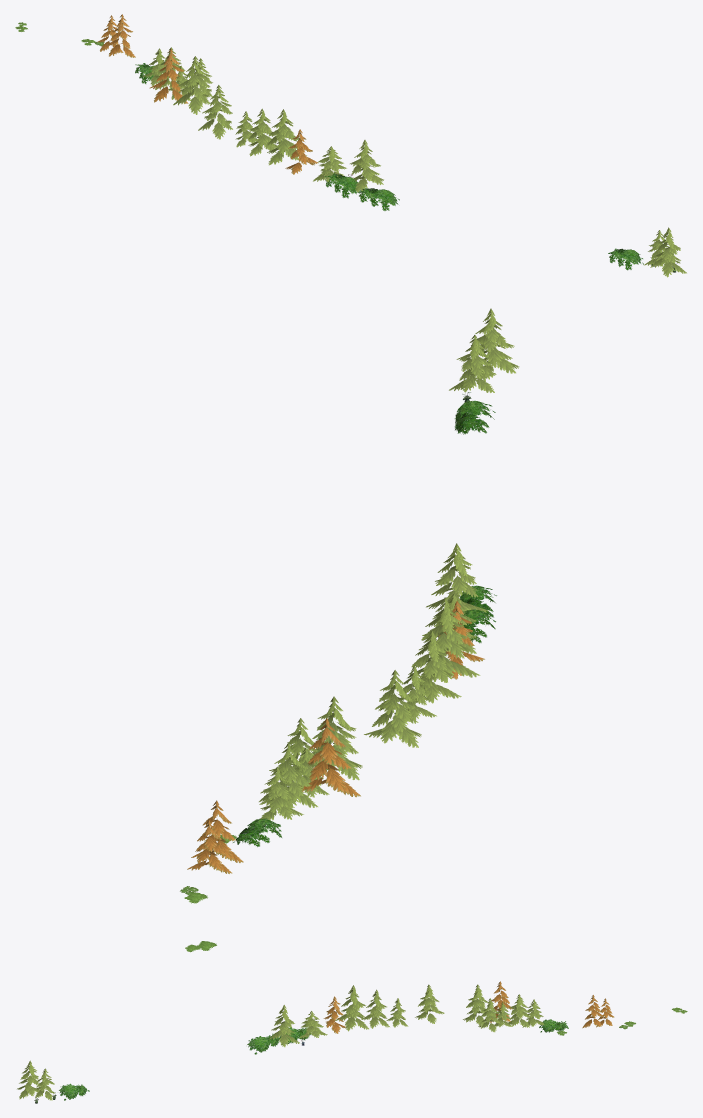
File: zhibei15_1.fbx
3 renders of one model, top to bottom at view 1: azimuth 30°, elevation 25°; view 2: azimuth 150°, elevation 25°; view 3: azimuth 270°, elevation 25°, orthographic. The views are drawn at different scales.
Parts seen in each view (by area): view 1: zhibei15_1; view 2: zhibei15_1; view 3: zhibei15_1.
Boxes of the visible parts, x1,y1,x2,y2 form: zhibei15_1: (15, 14, 686, 277); zhibei15_1: (180, 308, 519, 952); zhibei15_1: (17, 981, 687, 1103).
Size of the model in its own units: 3629 by 891 by 10703.
